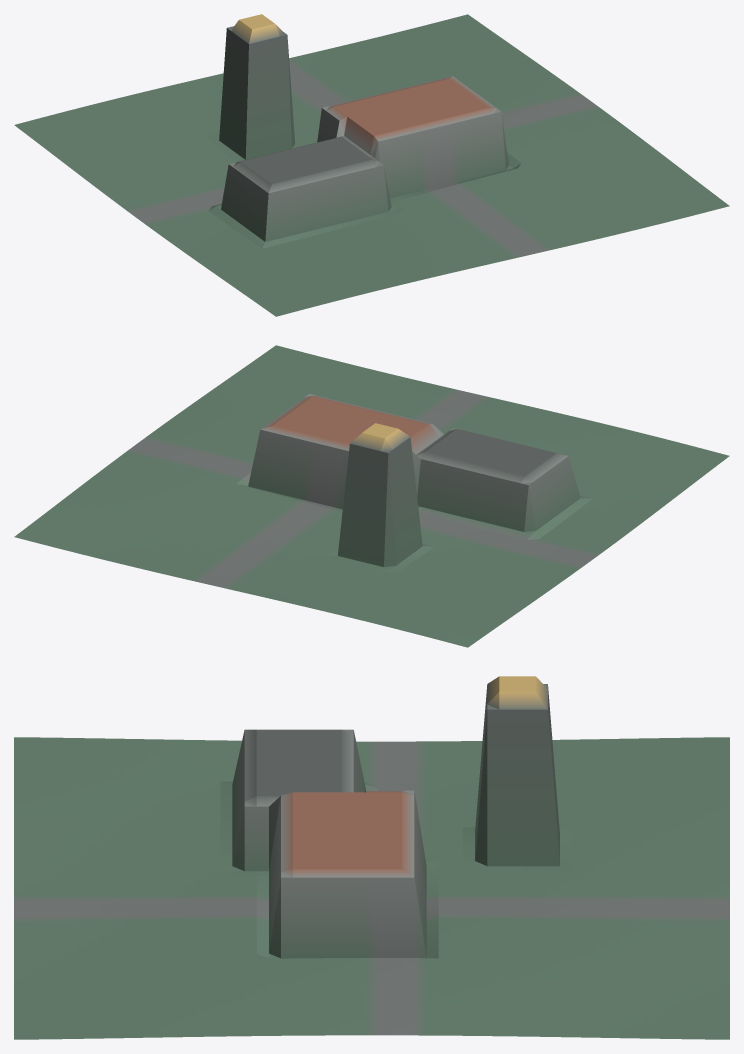
Rendered from 12306918_recon_model.glb.
3 renders of one model, top to bottom at view 1: azimuth 30°, elevation 25°; view 2: azimuth 150°, elevation 25°; view 3: azimuth 270°, elevation 25°, orthographic. The views are drawn at different scales.
Parts seen in each view (by area): view 1: world; view 2: world; view 3: world.
Part boxes in pixels (<box>): world: <box>14,14,729,316</box>; world: <box>14,345,729,647</box>; world: <box>14,676,729,1039</box>.
Bounding box in the file's own units: 60 × 15.58 × 60.
